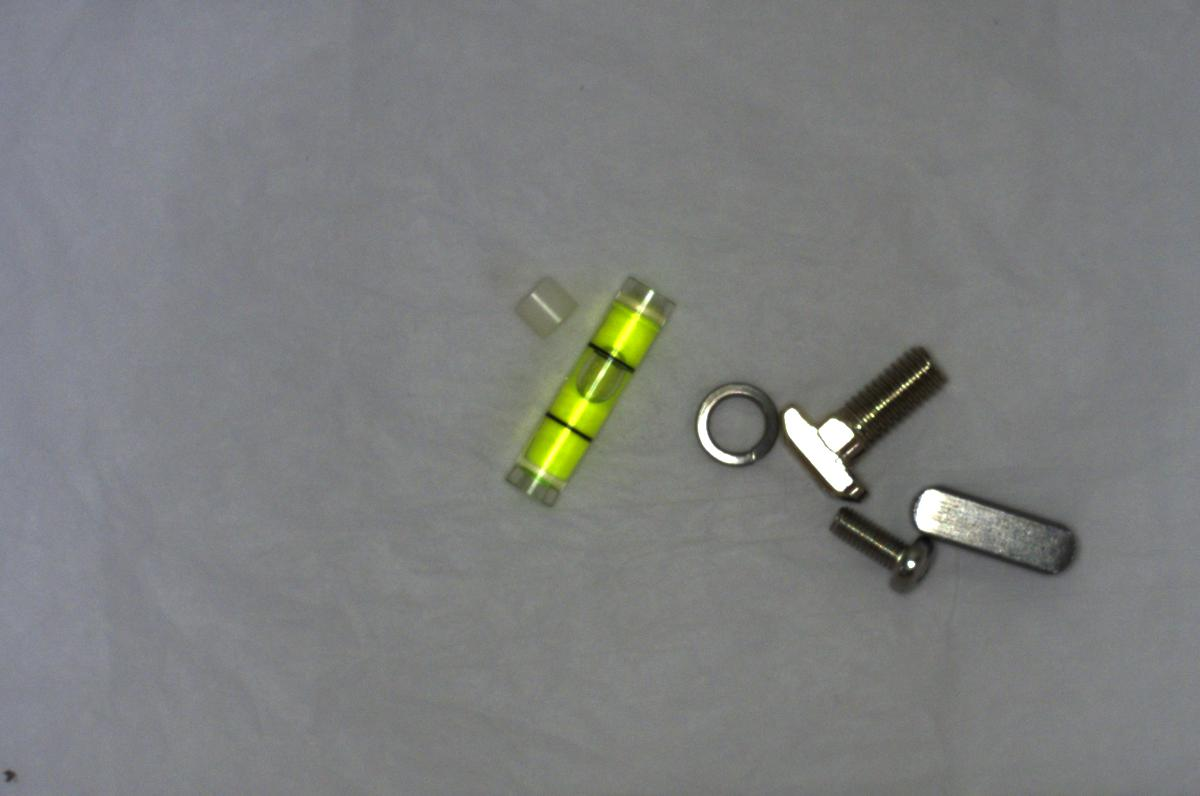Horizontal bubble: (474, 269, 676, 517)
Keybar: (902, 478, 1082, 581)
Plastic cushion pillar: (506, 272, 583, 339)
Round head screw: (825, 503, 953, 595)
Spring washer: (683, 367, 785, 467)
T-shaped screw: (769, 332, 952, 499)
